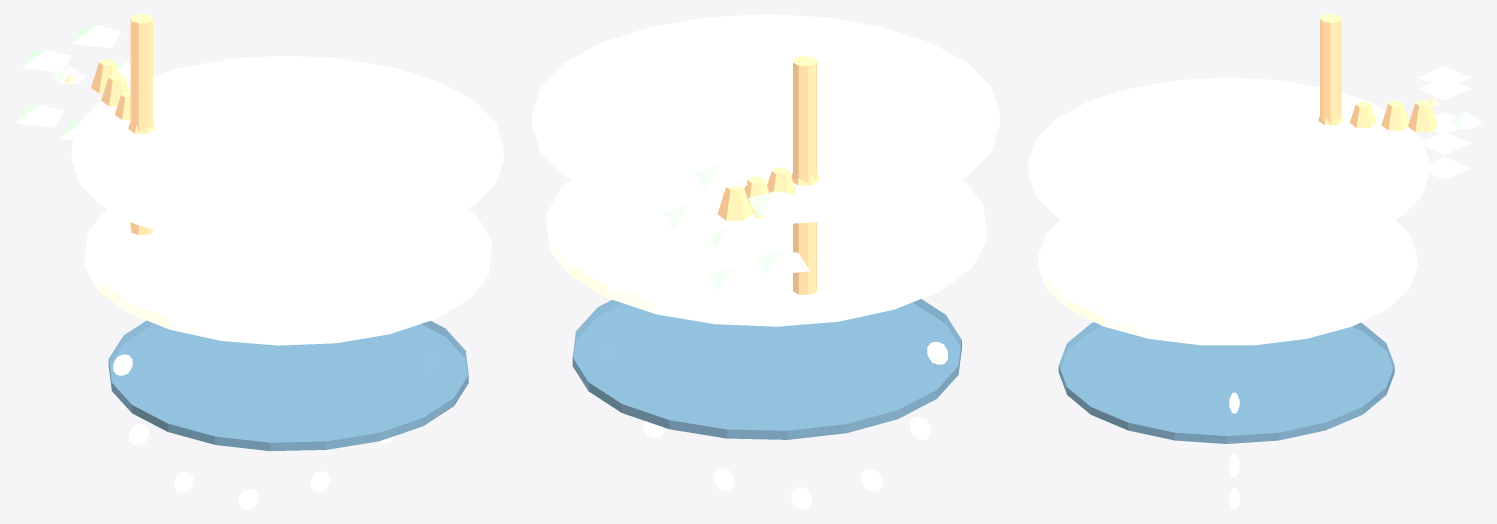
File: beach.glb
The picture shows the model from 3 angles, left to right: view 1: azimuth 30°, elevation 25°; view 2: azimuth 150°, elevation 25°; view 3: azimuth 270°, elevation 25°; orthographic projection. The views are drawn at different scales.
Parts seen in each view (by area): view 1: sand_dry, sand_wet, water, palm, palm_leaf_2.4, palm_leaf_3.6, palm_leaf_1.2, palm_lean_2, palm_lean_3; view 2: sand_dry, water, sand_wet, palm, palm_leaf_3.6, palm_leaf_4.8, palm_leaf_1.2, palm_leaf_2.4, palm_leaf_0.0, palm_lean_3, palm_lean_1; view 3: sand_dry, sand_wet, water, palm, palm_lean_3, palm_leaf_1.2, palm_lean_2, palm_leaf_0.0, palm_leaf_4.8, palm_lean_1.
Boxes of the visible parts, left/top/right/bottom form: sand_dry: left=71, top=55, right=503, bottom=250; sand_wet: left=84, top=209, right=491, bottom=345; water: left=108, top=320, right=468, bottom=451; palm: left=130, top=14, right=152, bottom=234; palm_leaf_2.4: left=22, top=49, right=71, bottom=72; palm_leaf_3.6: left=14, top=104, right=64, bottom=127; palm_leaf_1.2: left=72, top=25, right=121, bottom=48; palm_lean_2: left=101, top=74, right=129, bottom=106; palm_lean_3: left=91, top=59, right=118, bottom=93; sand_dry: left=532, top=14, right=999, bottom=224; water: left=572, top=299, right=961, bottom=439; sand_wet: left=546, top=179, right=986, bottom=326; palm: left=793, top=56, right=817, bottom=294; palm_leaf_3.6: left=756, top=250, right=809, bottom=275; palm_leaf_4.8: left=707, top=267, right=761, bottom=292; palm_leaf_1.2: left=694, top=165, right=747, bottom=189; palm_leaf_2.4: left=748, top=191, right=801, bottom=216; palm_leaf_0.0: left=662, top=205, right=716, bottom=230; palm_lean_3: left=717, top=186, right=752, bottom=220; palm_lean_1: left=767, top=167, right=796, bottom=195; sand_dry: left=1028, top=77, right=1429, bottom=258; sand_wet: left=1038, top=219, right=1417, bottom=345; water: left=1058, top=322, right=1394, bottom=443; palm: left=1320, top=14, right=1341, bottom=124; palm_lean_3: left=1408, top=100, right=1437, bottom=131; palm_leaf_1.2: left=1418, top=77, right=1470, bottom=100; palm_lean_2: left=1381, top=101, right=1408, bottom=130; palm_leaf_0.0: left=1422, top=131, right=1471, bottom=154; palm_leaf_4.8: left=1429, top=156, right=1471, bottom=179; palm_lean_1: left=1350, top=101, right=1376, bottom=127.
Size of the model in its own units: 3.7 by 4.41 by 4.19.
